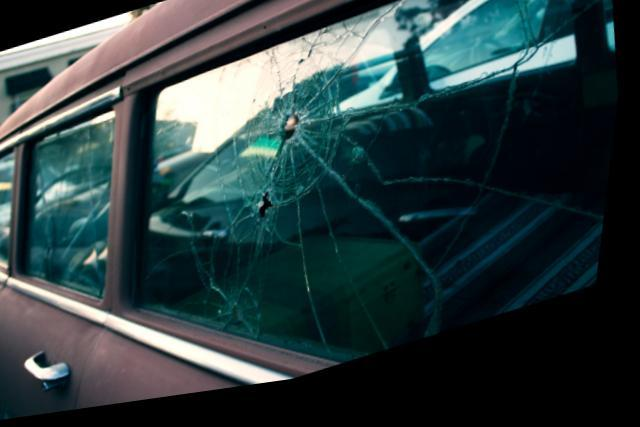glass shatter: (144, 0, 623, 370)
